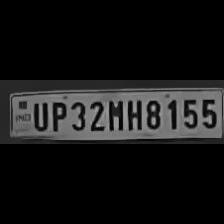1: (162, 97, 178, 130)
2: (88, 98, 106, 132)
3: (68, 98, 86, 132)
5: (178, 96, 198, 130), (199, 96, 219, 128)
8: (143, 97, 161, 130)
H: (124, 96, 142, 132)
M: (105, 97, 123, 131)
P: (47, 99, 66, 131)
U: (29, 99, 48, 130)
